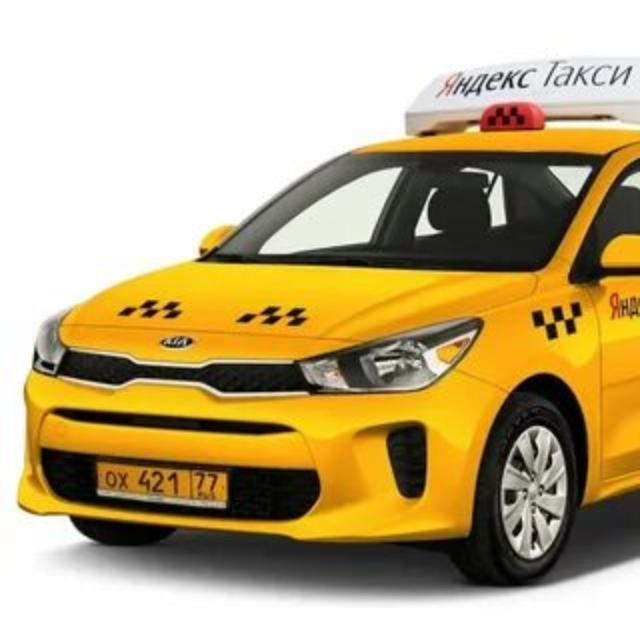taxi: (15, 55, 639, 587)
